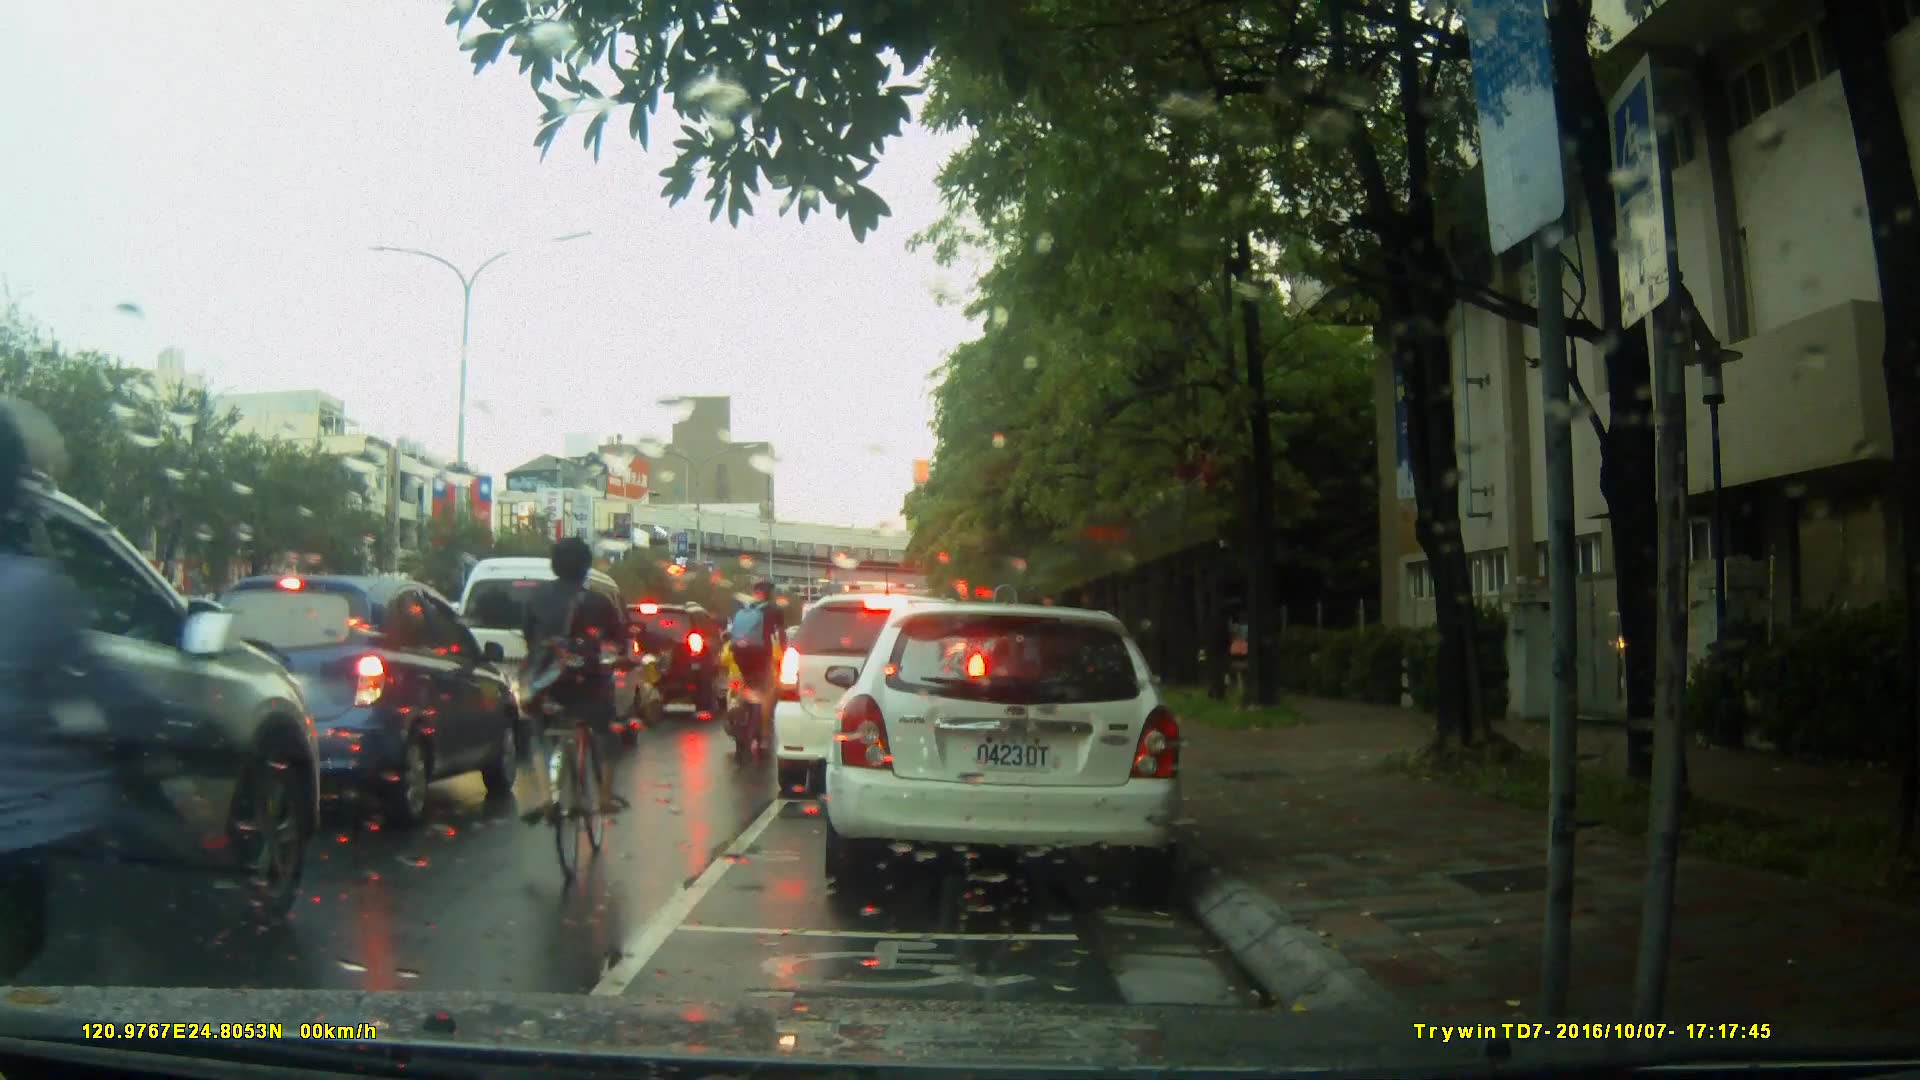rider: (1, 387, 249, 1052), (522, 530, 625, 883), (732, 575, 789, 741), (714, 601, 770, 747)
vehicle: (1, 448, 327, 987), (815, 593, 1204, 909), (179, 573, 530, 830), (770, 591, 992, 799), (447, 557, 648, 762), (600, 599, 742, 719)
